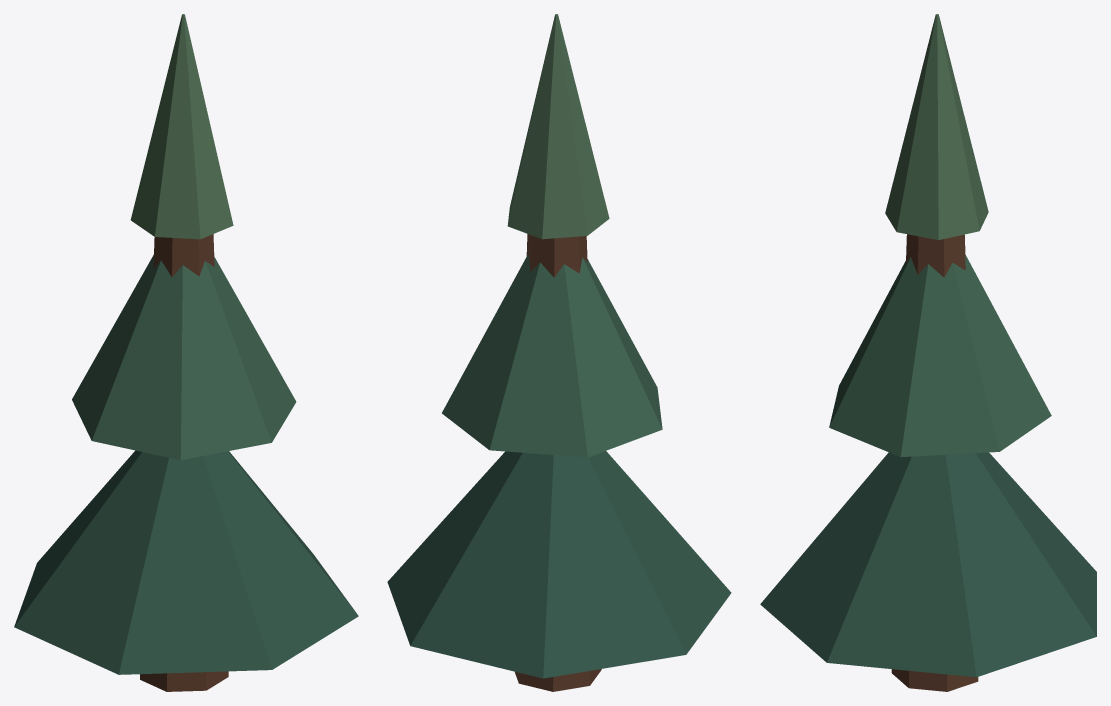
3 views of the same model, side by side, from view 1: azimuth 30°, elevation 25°; view 2: azimuth 150°, elevation 25°; view 3: azimuth 270°, elevation 25° (orthographic).
Parts seen in each view (by area): view 1: T19_海岸矮松; view 2: T19_海岸矮松; view 3: T19_海岸矮松.
Boxes of the visible parts, left/top/right/bottom form: T19_海岸矮松: left=14, top=14, right=358, bottom=691; T19_海岸矮松: left=387, top=14, right=731, bottom=691; T19_海岸矮松: left=760, top=14, right=1096, bottom=691.
Bounding box in the file's own units: 0.9077 × 1.91 × 0.8849.
